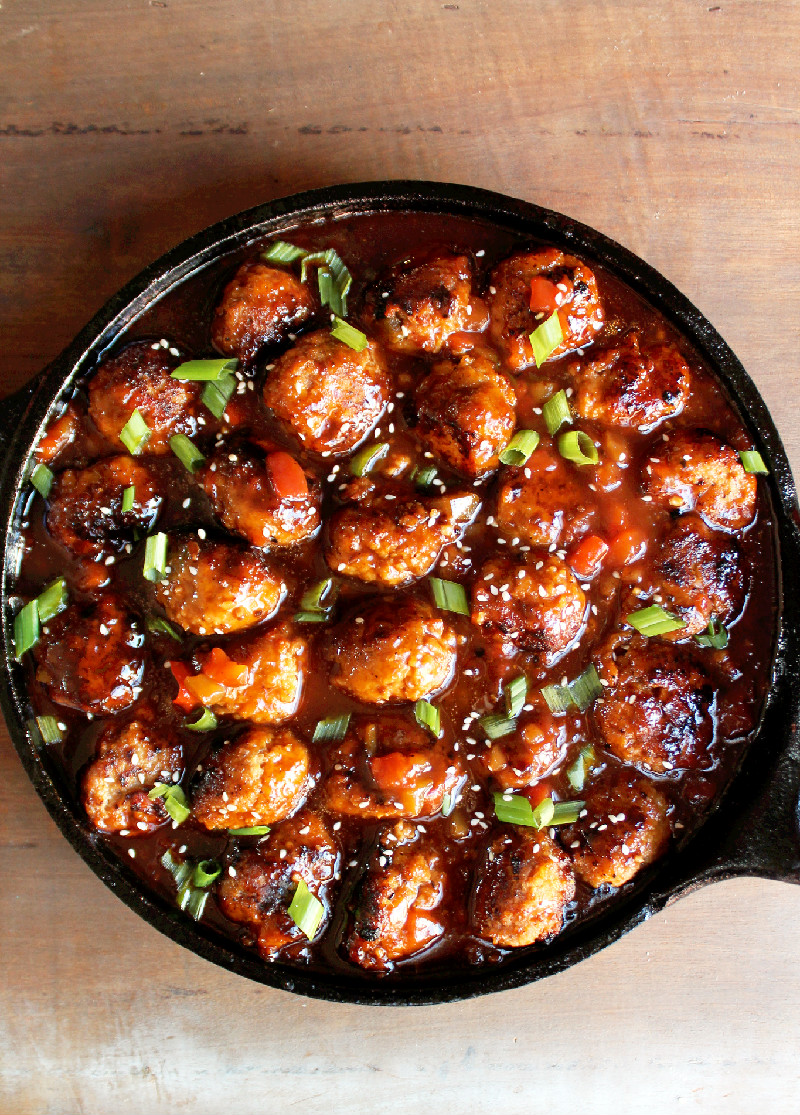meatballs: (11, 581, 128, 706), (207, 825, 339, 932), (470, 253, 597, 361), (329, 717, 456, 825), (346, 844, 456, 966), (191, 734, 314, 835), (477, 560, 589, 665), (180, 623, 303, 718), (341, 606, 454, 708), (610, 641, 699, 768), (256, 340, 383, 427), (402, 370, 514, 467), (202, 460, 317, 554), (342, 485, 450, 585), (77, 718, 174, 827), (168, 539, 284, 630), (193, 260, 313, 347), (55, 457, 151, 565), (643, 525, 739, 632), (574, 770, 664, 884), (479, 840, 563, 957), (641, 437, 747, 525), (470, 687, 563, 787), (94, 358, 208, 439), (367, 273, 482, 352), (587, 339, 683, 433)
